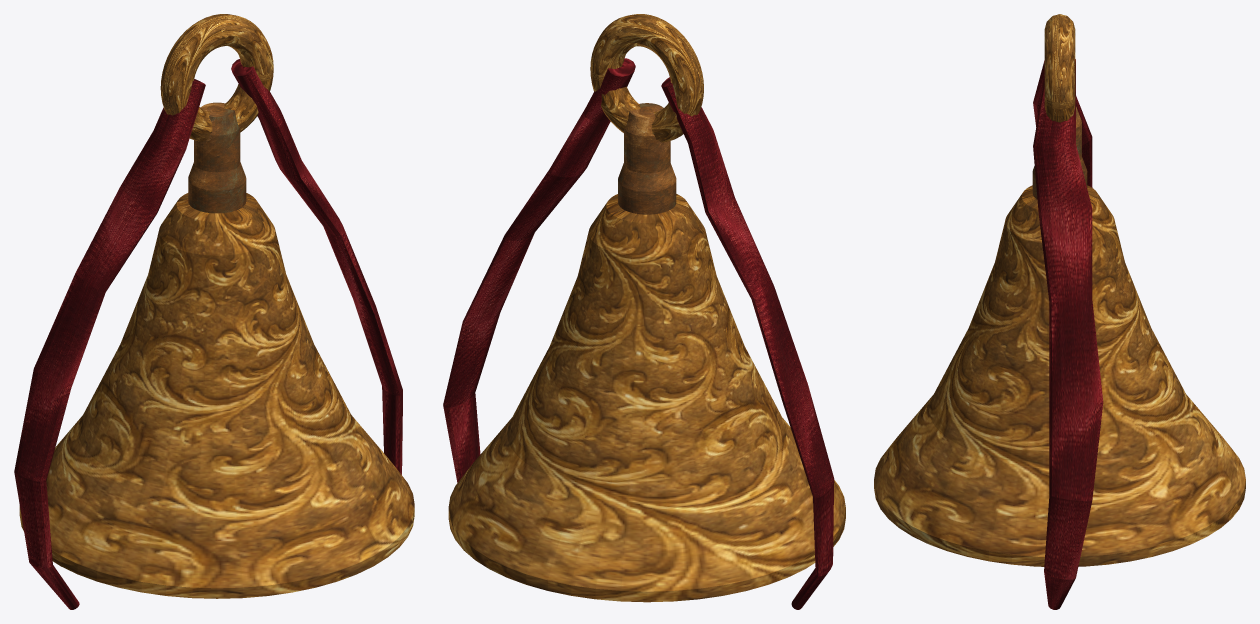
File: bell.obj
3 renders of one model, left to right at view 1: azimuth 30°, elevation 25°; view 2: azimuth 150°, elevation 25°; view 3: azimuth 270°, elevation 25°, orthographic. The views are drawn at different scales.
Parts seen in each view (by area): view 1: shell, tassel-1, tassel1, handle_loop, handle; view 2: shell, tassel-1, tassel1, handle_loop, handle; view 3: shell, tassel1, handle_loop, tassel-1.
Boxes of the visible parts, left/top/right/bottom form: shell: left=19, top=193, right=414, bottom=598; tassel-1: left=14, top=79, right=205, bottom=609; tassel1: left=231, top=59, right=402, bottom=474; handle_loop: left=160, top=14, right=273, bottom=141; handle: left=188, top=102, right=246, bottom=213; shell: left=448, top=194, right=845, bottom=602; tassel-1: left=661, top=77, right=834, bottom=609; tassel1: left=443, top=58, right=635, bottom=482; handle_loop: left=590, top=14, right=703, bottom=142; handle: left=618, top=103, right=676, bottom=214; shell: left=874, top=185, right=1245, bottom=566; tassel1: left=1033, top=82, right=1103, bottom=609; handle_loop: left=1044, top=14, right=1075, bottom=122; tassel-1: left=1033, top=59, right=1092, bottom=187.
Size of the model in its own units: 75.52 by 106 by 68.41.
4 materials, 4 textured.
